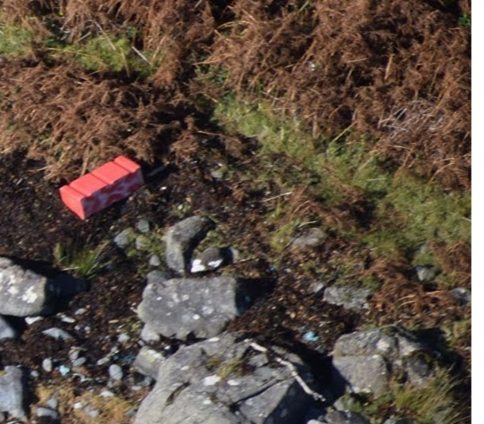cuboid: (50, 153, 150, 224)
white_in_green: (294, 318, 336, 357), (44, 349, 86, 388)
